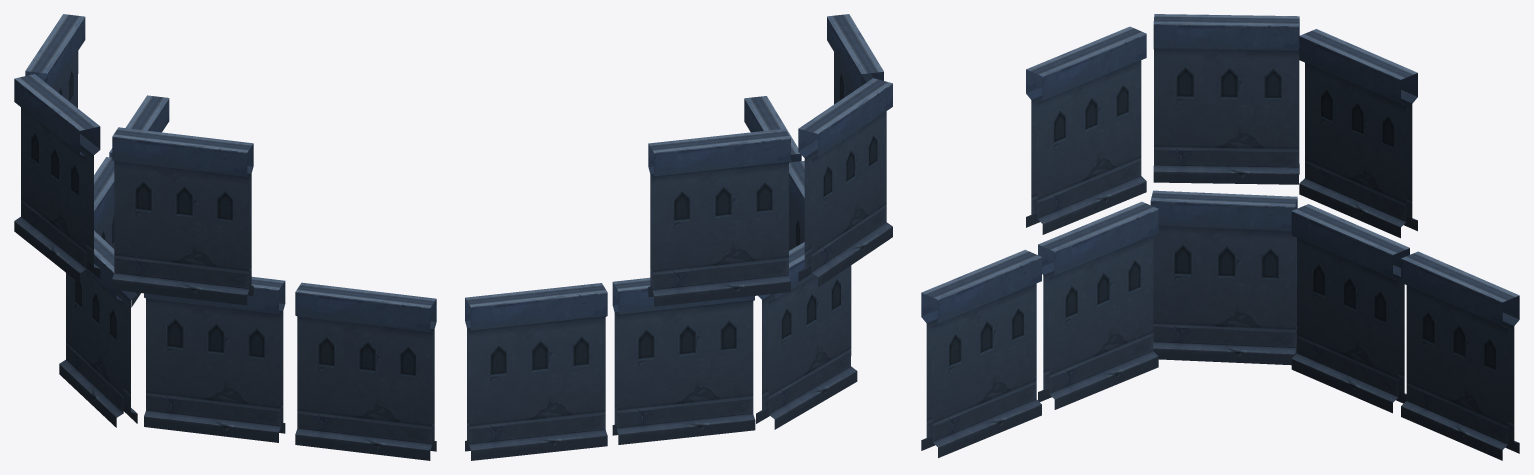
File: Area_01_1.fbx
3 renders of one model, left to right at view 1: azimuth 30°, elevation 25°; view 2: azimuth 150°, elevation 25°; view 3: azimuth 270°, elevation 25°, orthographic. The views are drawn at different scales.
Visible parts, largest first — view 1: Area_01_1; view 2: Area_01_1; view 3: Area_01_1.
Part boxes in pixels (x1,y1,x2,y2): Area_01_1: (14,14,436,460); Area_01_1: (465,14,892,460); Area_01_1: (921,14,1519,460).
Size of the model in its own units: 2068 by 2349 by 4021.
